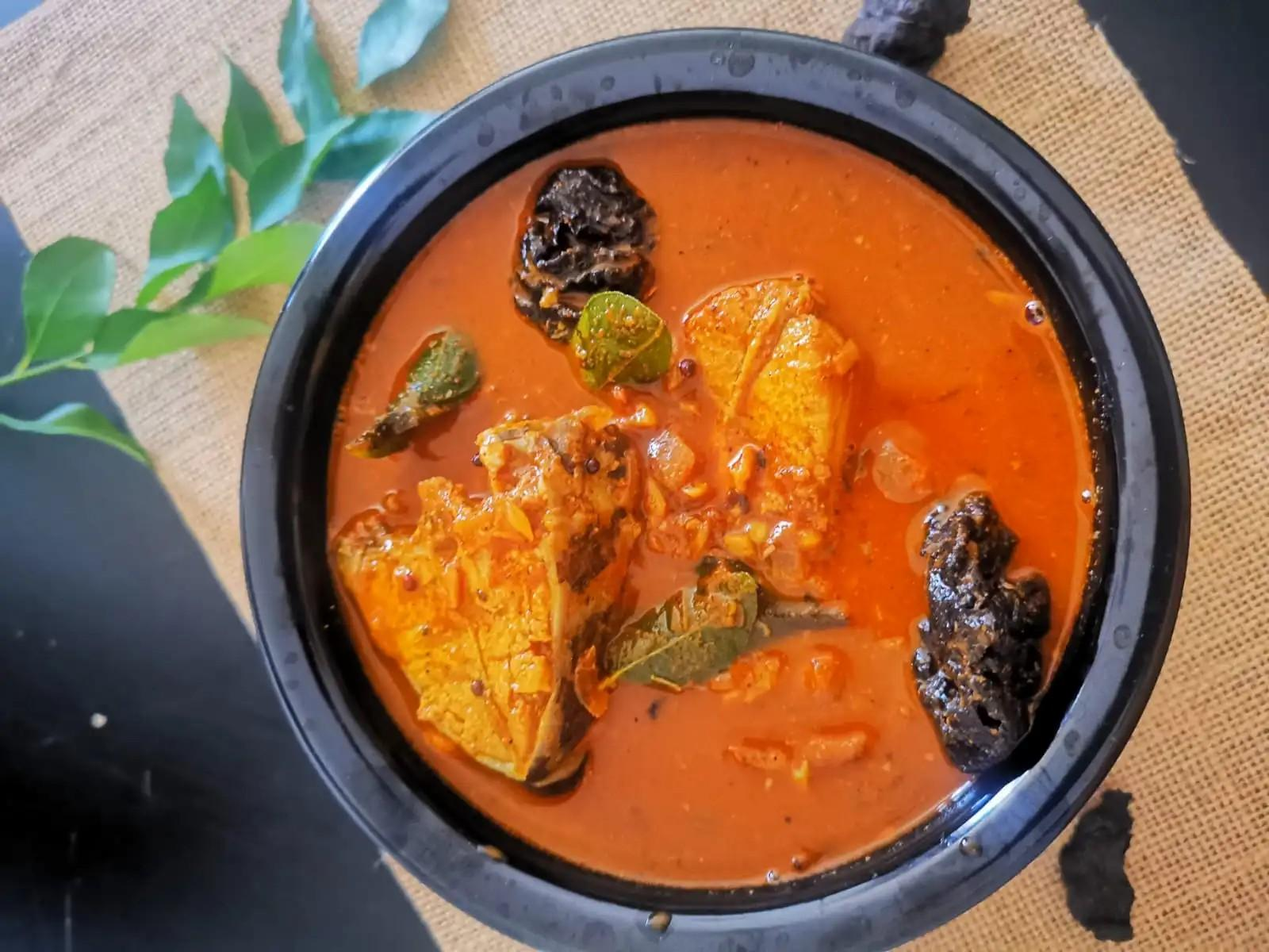FishCurry: (314, 109, 1088, 881)
